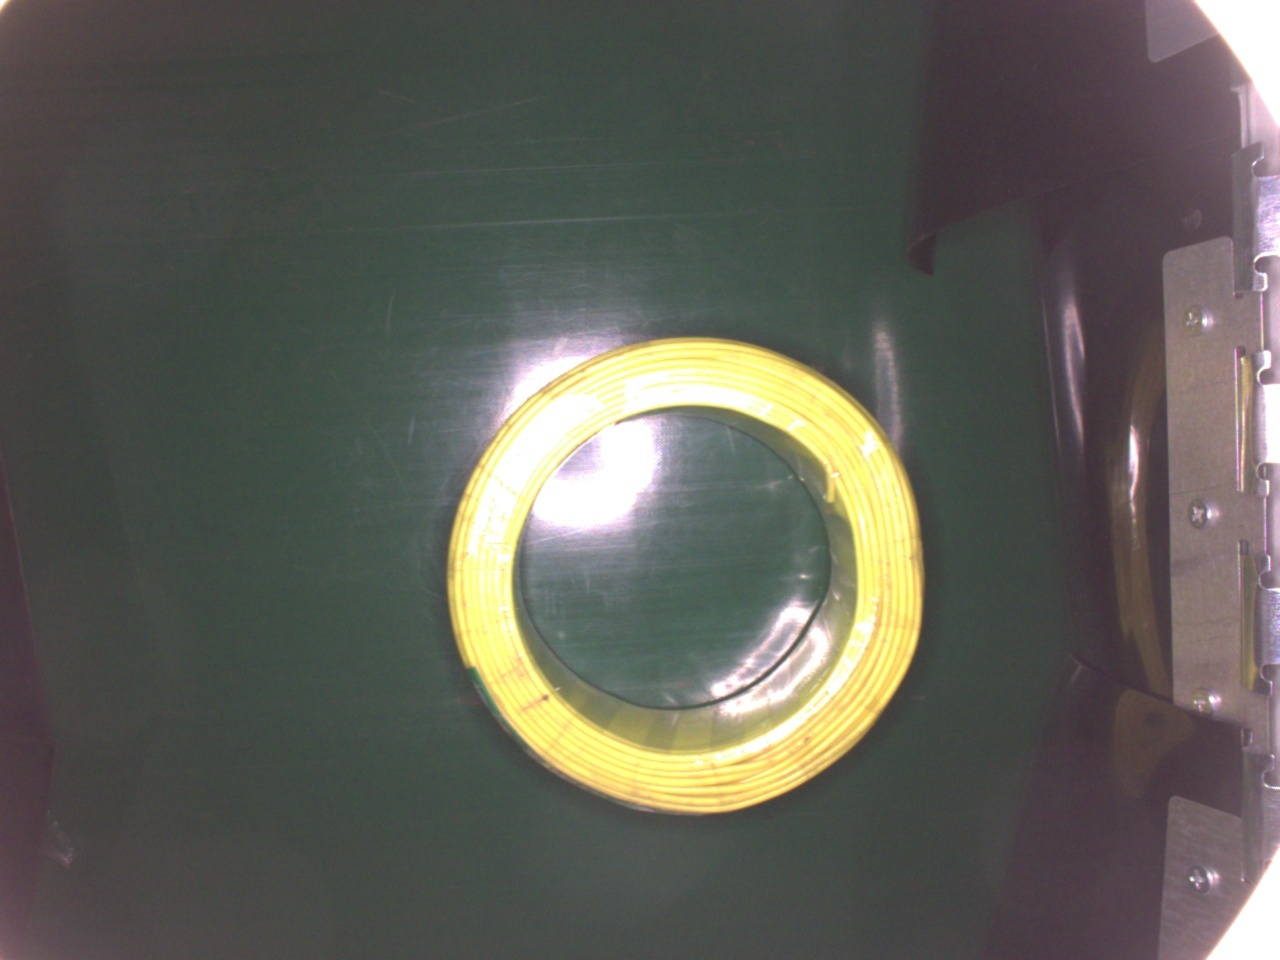yellow: (440, 334, 927, 818)
